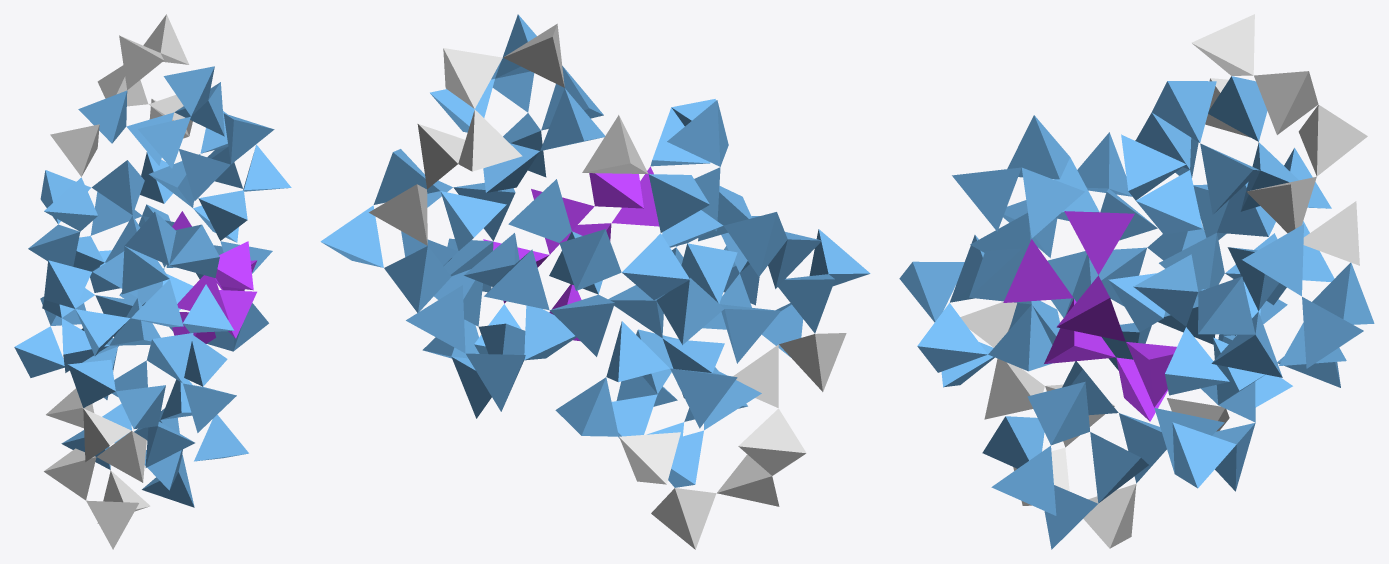
Rendered from 03_Dimer_NoZinc.fbx.
3 renders of one model, left to right at view 1: azimuth 30°, elevation 25°; view 2: azimuth 150°, elevation 25°; view 3: azimuth 270°, elevation 25°, orthographic. The views are drawn at different scales.
Visible parts, largest first — view 1: 03_Dimer_NoZinc; view 2: 03_Dimer_NoZinc; view 3: 03_Dimer_NoZinc.
Part boxes in pixels (bbox=[...]): 03_Dimer_NoZinc: bbox=[14, 14, 291, 549]; 03_Dimer_NoZinc: bbox=[320, 14, 870, 549]; 03_Dimer_NoZinc: bbox=[899, 14, 1374, 549].
Size of the model in its own units: 303 by 433 by 330.
1 material, 1 textured.
